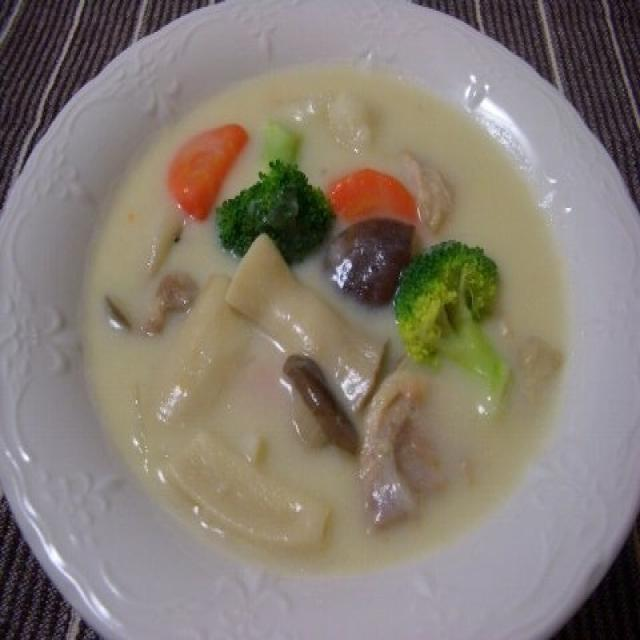汤锅炖物: (1, 2, 635, 631)
